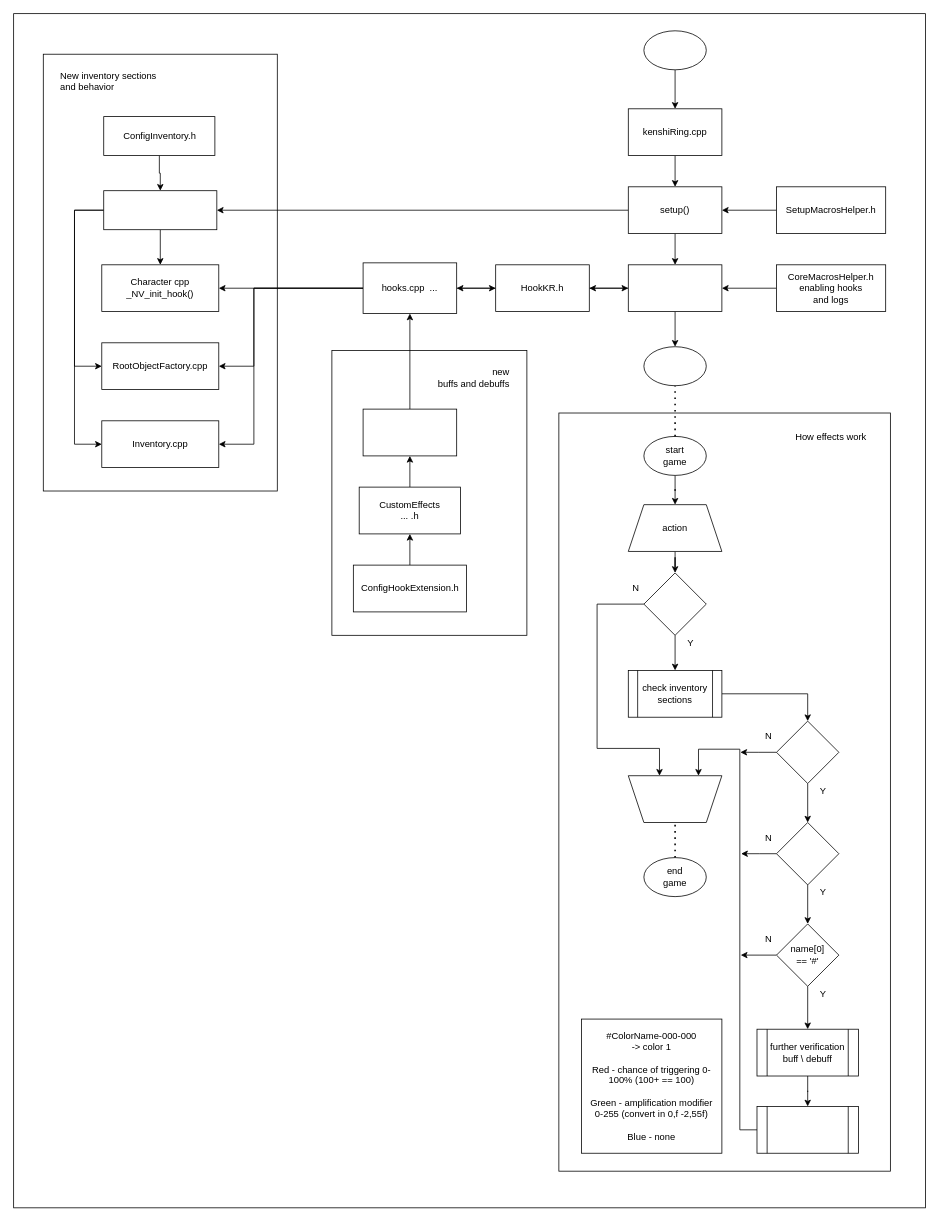
The diagram is 939 pixels wide and 1221 high, and some of its shapes have lost their labels. The shapes that lost their labels are listed below. From the top down, each one's centre as x and y in pixels, then its label:
At (674,50): "start load plugin".
At (160,210): "InventoryKR.h".
At (675,288): "load hooks".
At (674,366): "end load plugin".
At (409,432): "HookExtension.h macro injection".
At (674,603): "hook".
At (807,752): "items".
At (675,799): "end action".
At (807,853): "color".
At (807,1129): "execute an effect".
